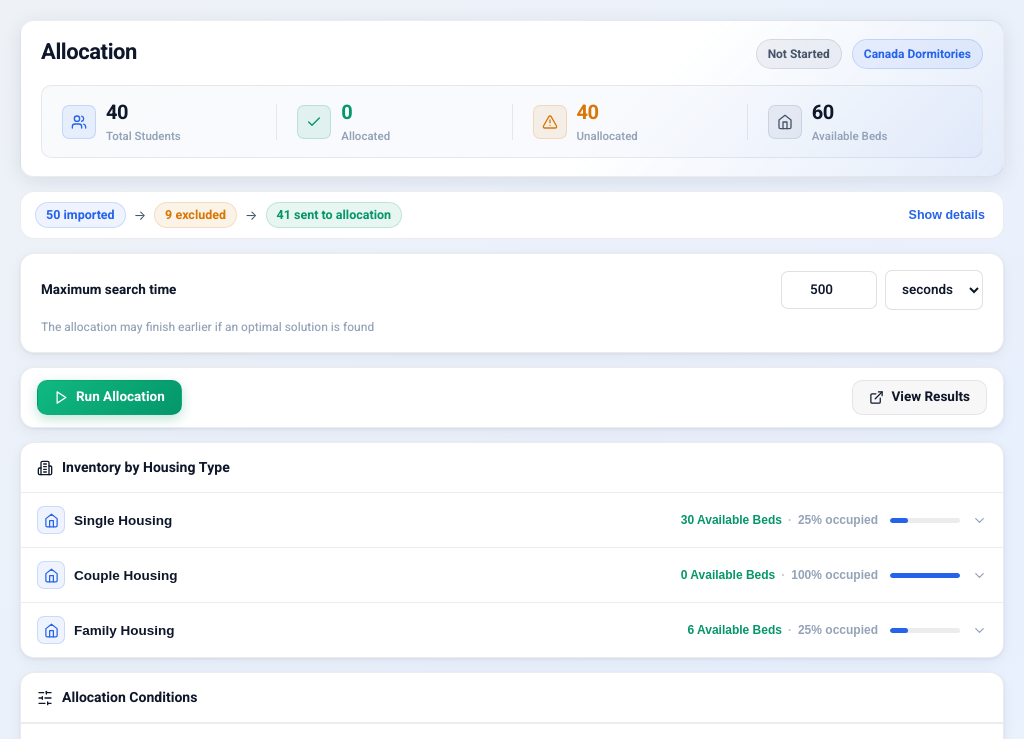
Test: AllocationPage start › rejects an invalid maximum search time without starting a run
Expected: the button "View Results" is shown, [852, 380, 987, 415]
Replace the text in the number field labelled "Maximum search time" with "0". click: (829, 290)
box: [781, 271, 877, 309]
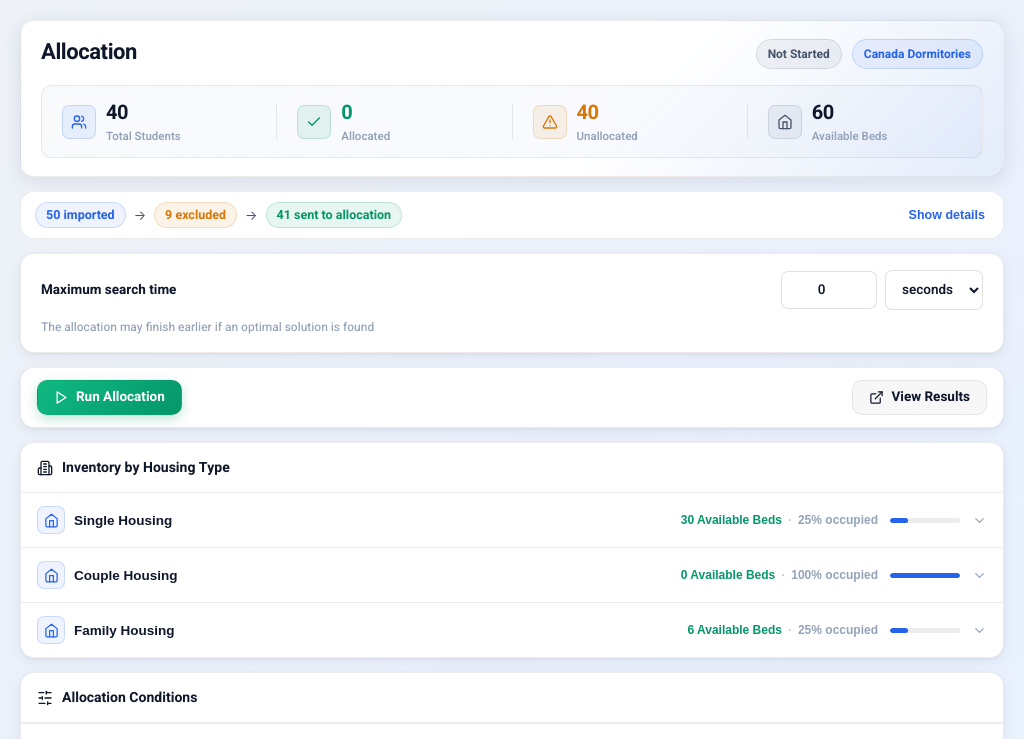
Click the button "Run Allocation". click: (109, 398)
box: [37, 380, 182, 415]
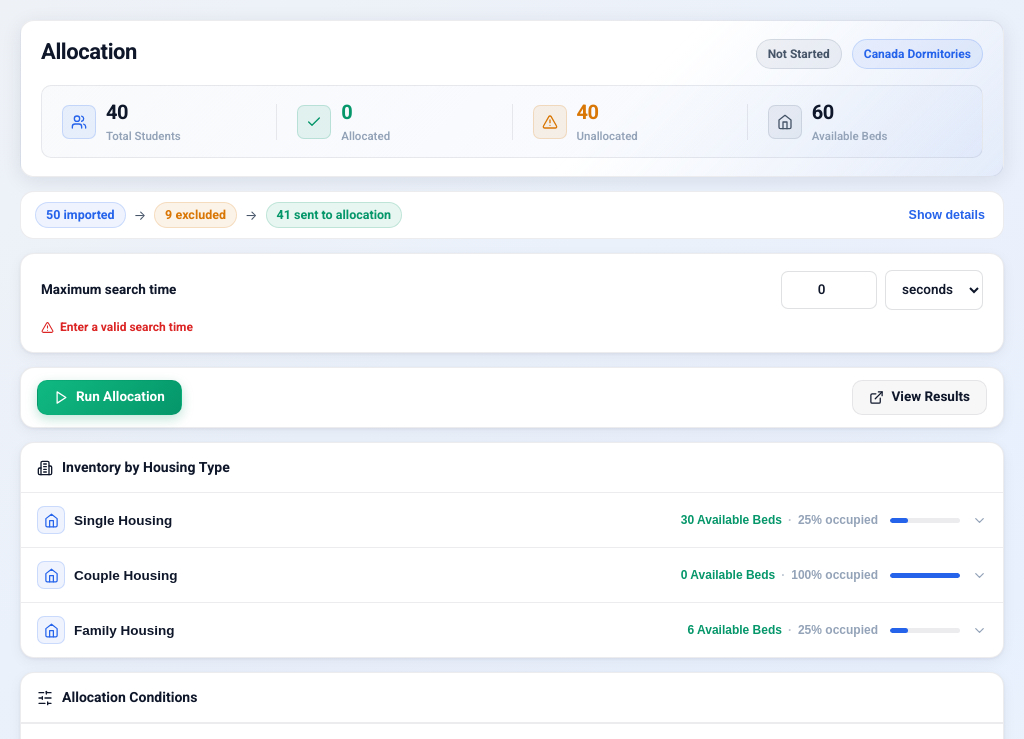
Expected: the text "Not Started" is shown, [756, 39, 842, 69]
Expected: the text "Enter a valid search time" is shown, [60, 318, 193, 336]
Replace the text in the number field labelled "Maximum search time" with "11". click: (829, 290)
box: [781, 271, 877, 309]
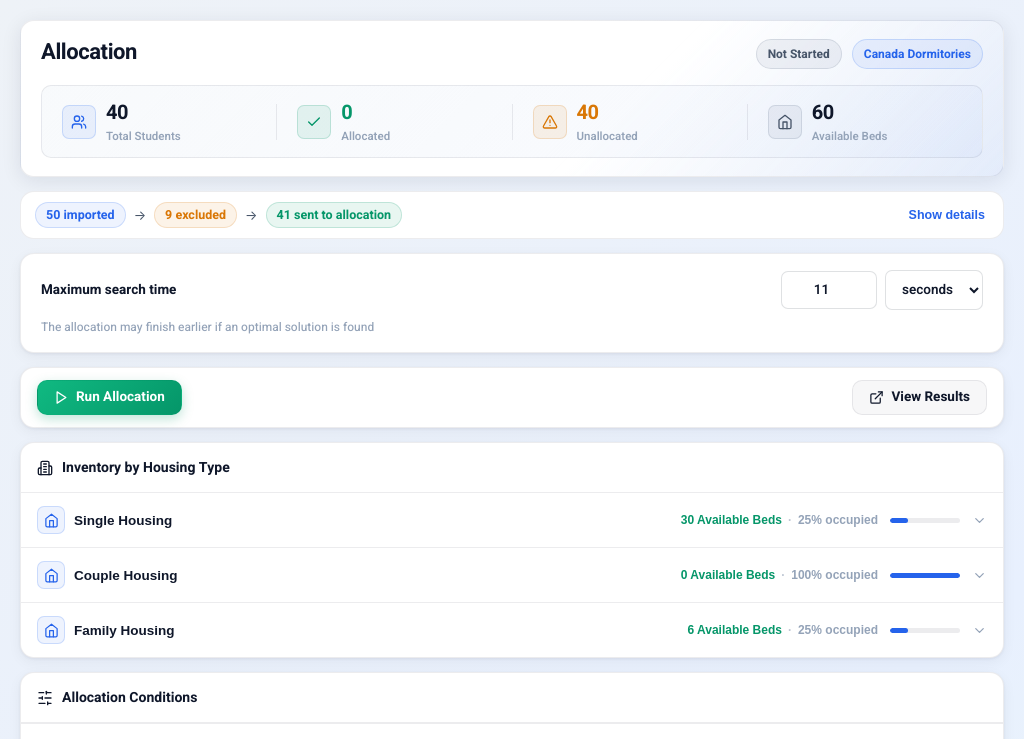
Expected: the text "Enter a valid search time" is gone
Select "hours" in the dropdown named "Maximum search time". click: (934, 290)
box: [885, 270, 983, 310]
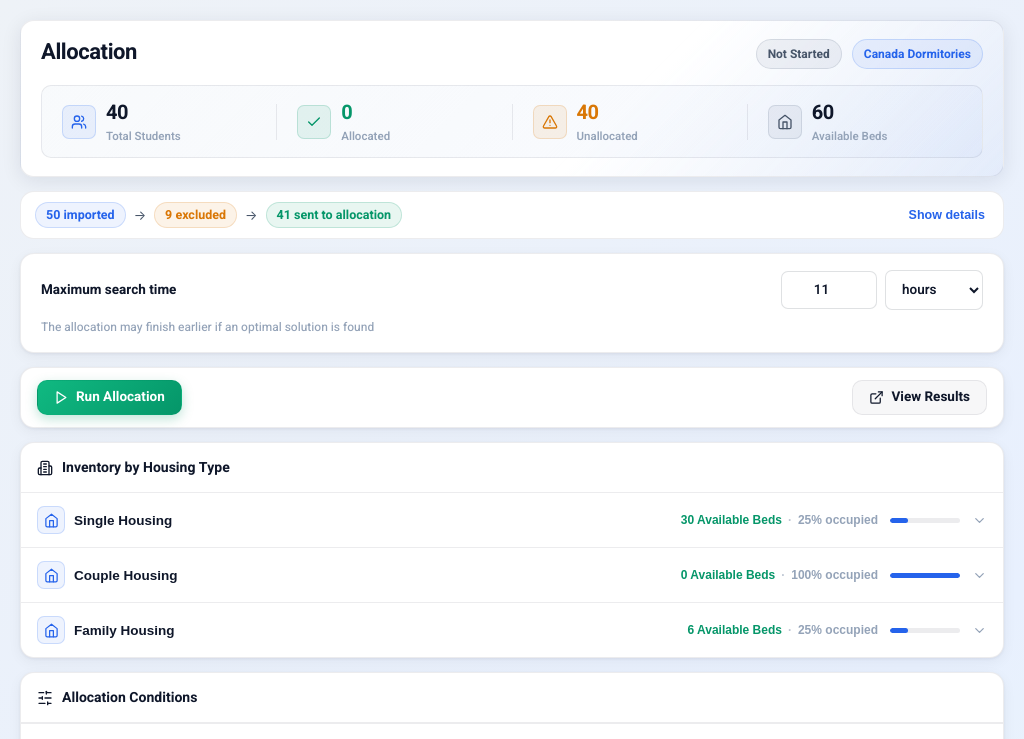
Click the button "Run Allocation". click: (109, 398)
box: [37, 380, 182, 415]
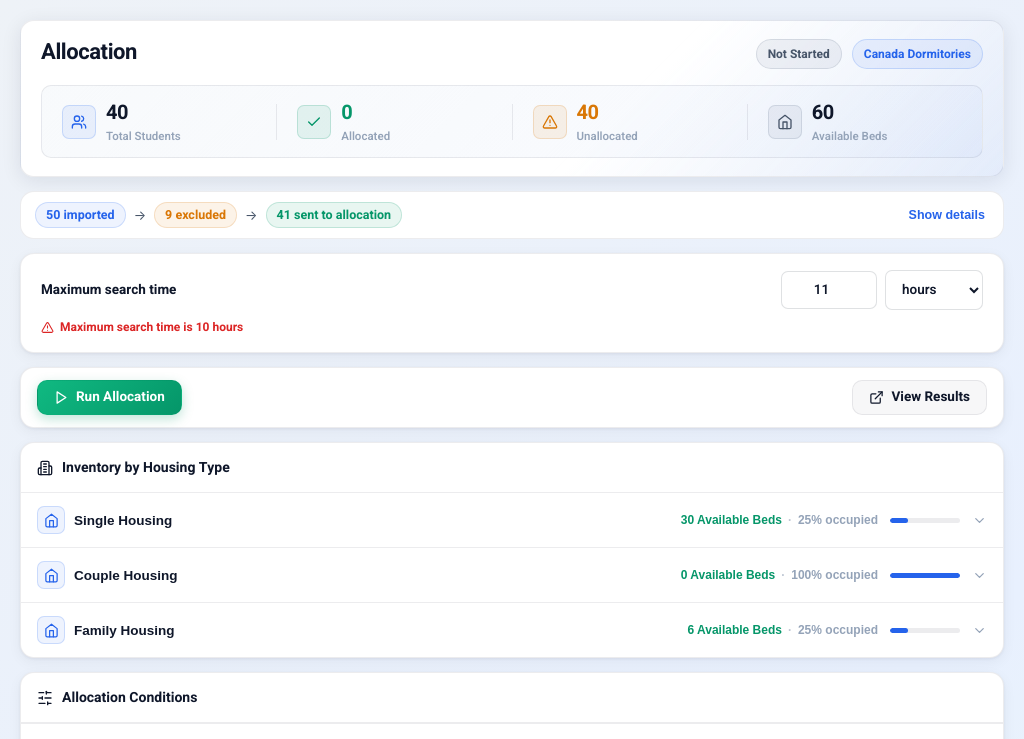
Expected: the text "Maximum search time is 10 hours" is shown, [60, 318, 243, 336]
